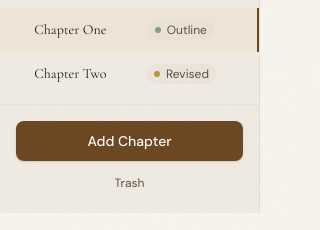
Sidebar › closes status dropdown on Escape key
This screenshot has width=320, height=230.
Click the button with aria-label "Chapter status: Outline" at x=181, y=30, box [147,20,215,40]
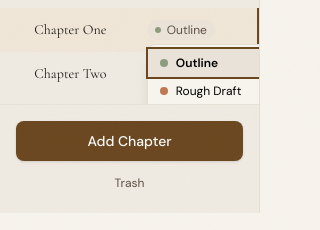
Press Escape
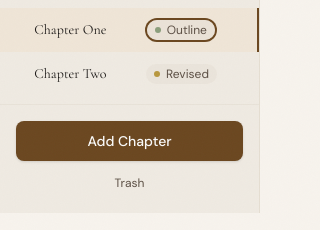
Result: the list "Outline Rough Draft" is gone
